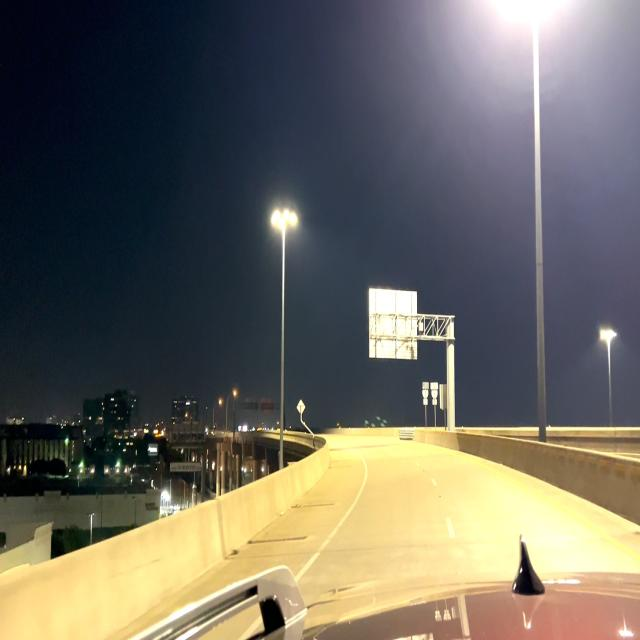back-of-sign: (370, 285, 418, 360)
